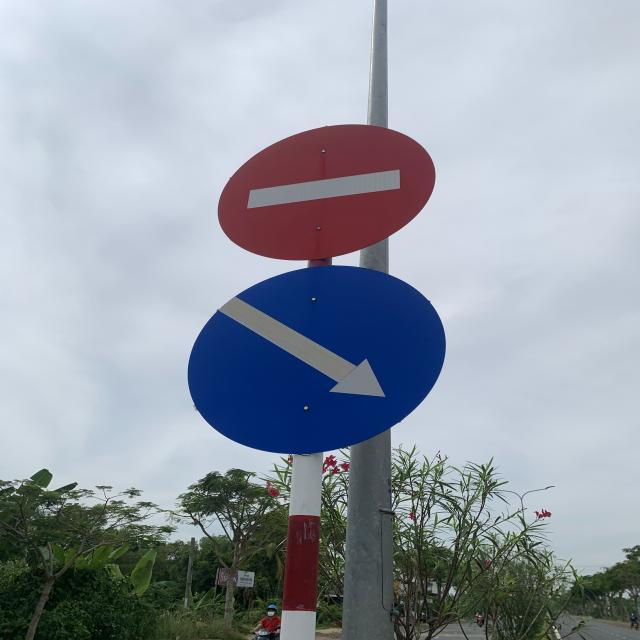Cam_Di_Nguoc_Chieu: (220, 123, 437, 262)
Chi_Huong_Di_Phai: (182, 264, 442, 456)
